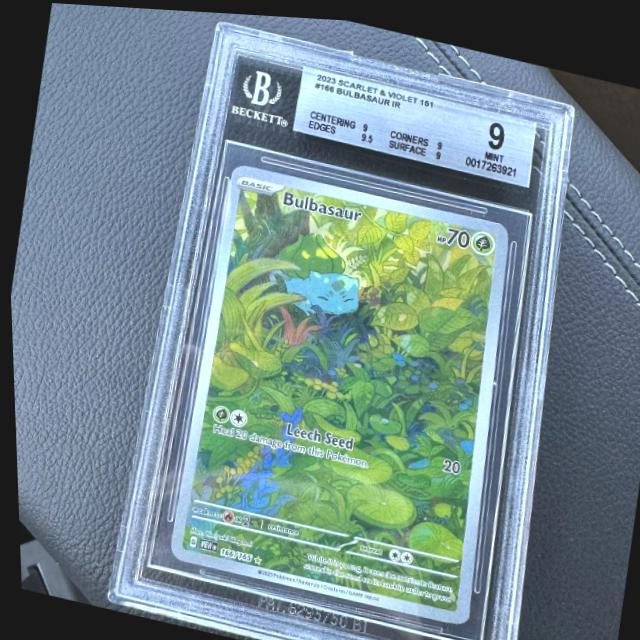bgs_label: (292, 62, 535, 180)
bgs_slab: (100, 16, 574, 640)
card: (163, 159, 509, 622)
